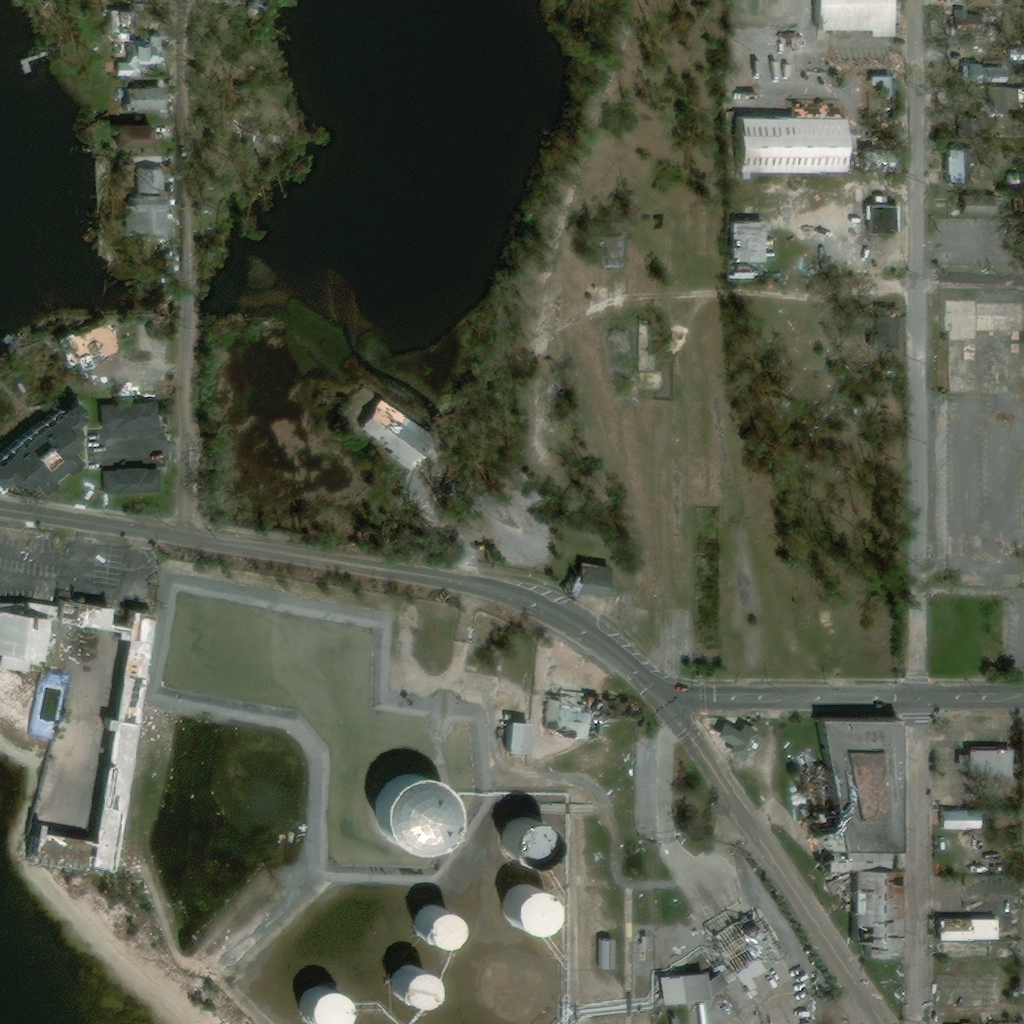destroyed: (701, 904, 780, 983), (828, 49, 888, 74), (864, 156, 894, 172)
major_damage: (26, 599, 153, 870), (798, 717, 904, 956), (731, 102, 841, 173), (56, 321, 122, 371), (542, 689, 600, 733), (100, 20, 142, 41)
minor_damage: (0, 400, 82, 493), (356, 398, 426, 464), (115, 36, 162, 78), (937, 914, 1002, 942), (722, 222, 762, 262), (966, 750, 1008, 786), (574, 562, 612, 598), (117, 89, 167, 113), (866, 205, 897, 233), (939, 811, 979, 830), (964, 65, 1007, 82), (137, 168, 162, 193), (950, 150, 970, 180), (954, 10, 973, 31), (957, 0, 984, 10)
no_damage: (357, 774, 451, 859), (489, 816, 553, 867), (812, 0, 894, 37), (491, 885, 555, 932), (0, 612, 48, 673), (403, 905, 457, 948), (380, 966, 432, 1007), (293, 985, 345, 1023), (714, 723, 758, 764), (659, 971, 704, 1005), (99, 403, 157, 429), (125, 197, 169, 231), (104, 467, 161, 493), (119, 124, 157, 151), (502, 721, 526, 755), (599, 940, 616, 971), (960, 197, 990, 214), (987, 89, 1006, 111), (21, 59, 33, 76), (1010, 176, 1023, 185)
